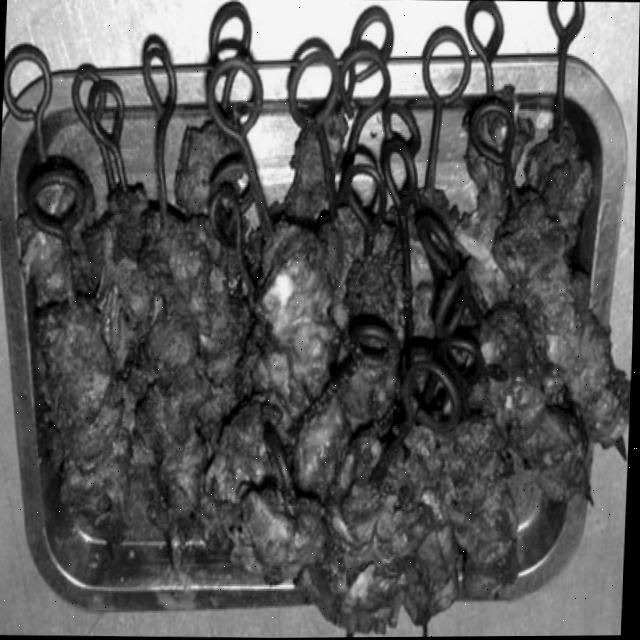烧串烤肉: (0, 48, 639, 640)
